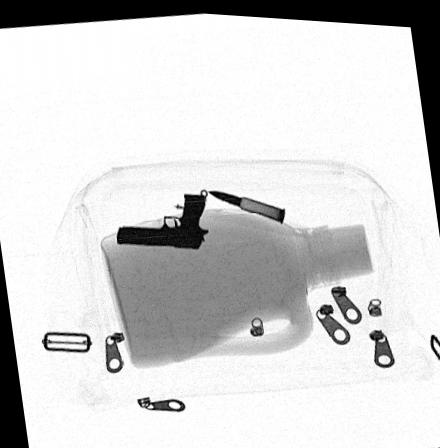Bullet: (208, 187, 284, 218)
Gun: (116, 191, 211, 247)
